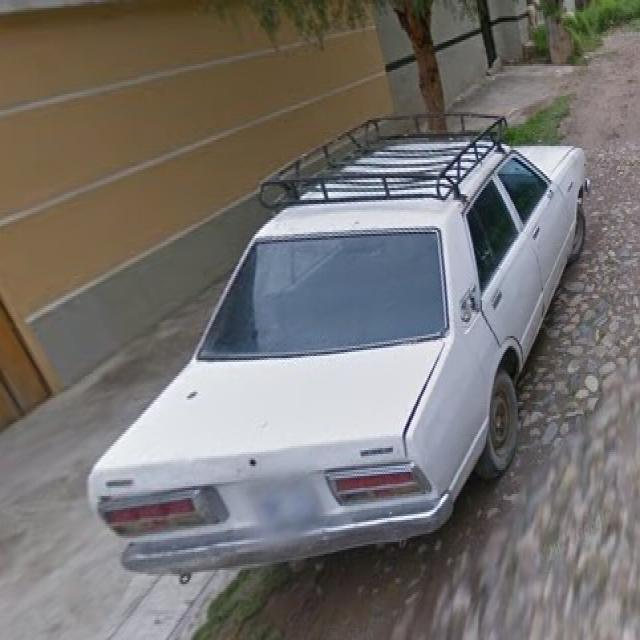Car: (89, 128, 578, 590)
